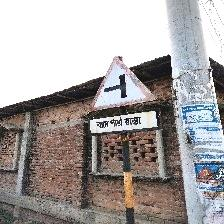Side-road-left: (88, 55, 158, 144)
